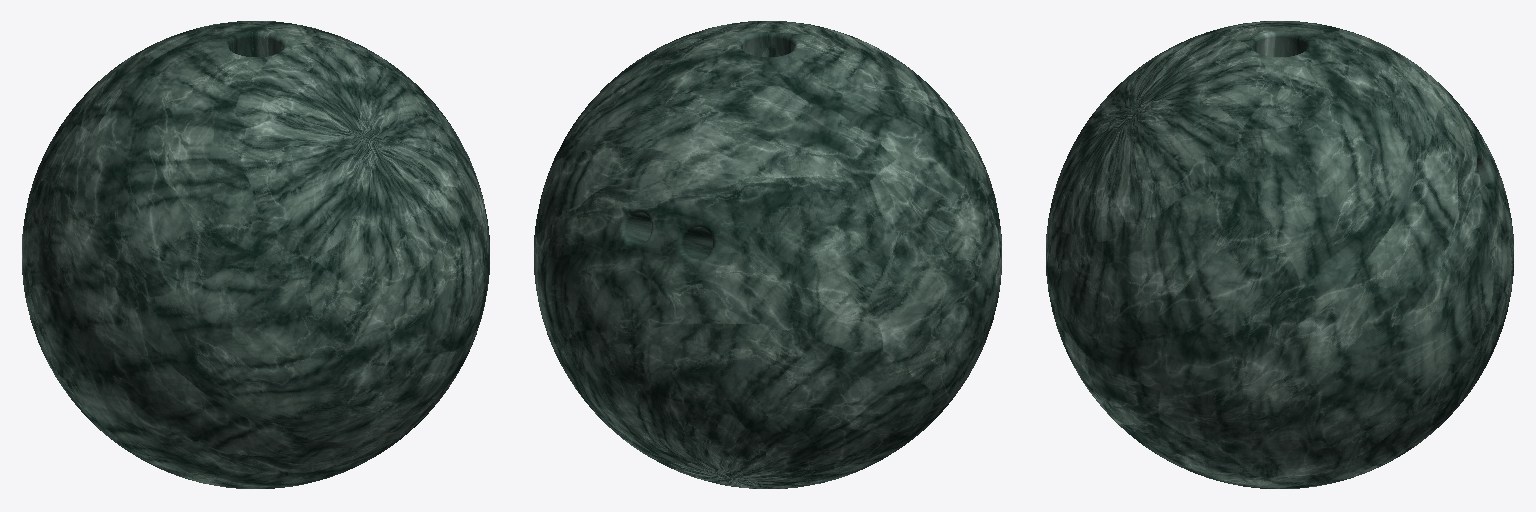
3 views of the same model, side by side, from view 1: azimuth 30°, elevation 25°; view 2: azimuth 150°, elevation 25°; view 3: azimuth 270°, elevation 25° (orthographic).
Parts seen in each view (by area): view 1: bowlingBall; view 2: bowlingBall; view 3: bowlingBall.
Part boxes in pixels (bbox=[...]): bowlingBall: bbox=[22, 21, 489, 488]; bowlingBall: bbox=[534, 21, 1001, 488]; bowlingBall: bbox=[1046, 21, 1513, 488].
Bounding box in the file's own units: 218 × 217 × 218.
Materials: 1 (1 with a texture image).